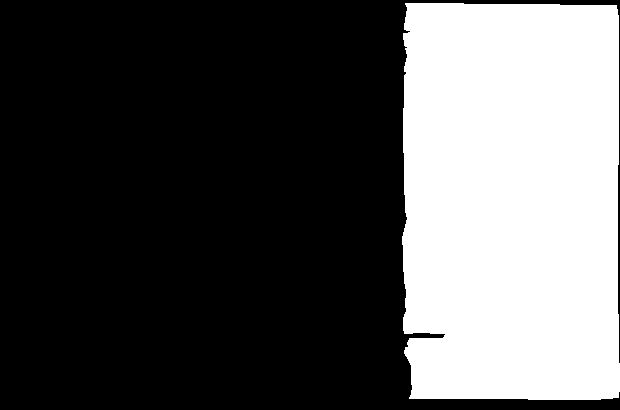type5: (397, 1, 620, 401)
